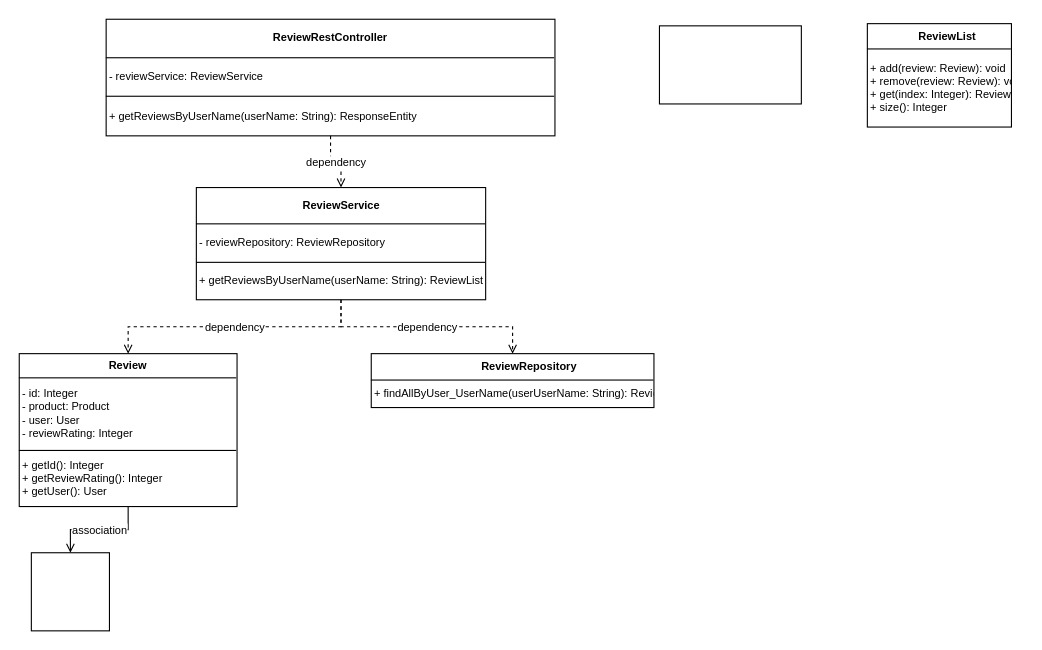
Some shapes in this 1042 by 650 pixel diagram are drawn without their labels. The box of each missing label's shape, as (x1, y1, x2, y2) in pixels:
ResponseEntity + body: ReviewList + statusCode: Integer: (658, 25, 801, 104)
User - id: Integer - name: String: (30, 552, 109, 631)
